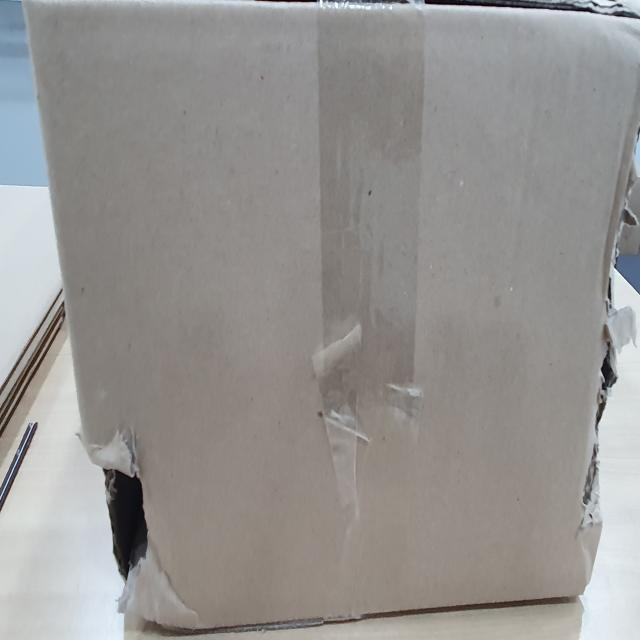hole: (576, 129, 629, 532), (102, 445, 177, 605)
